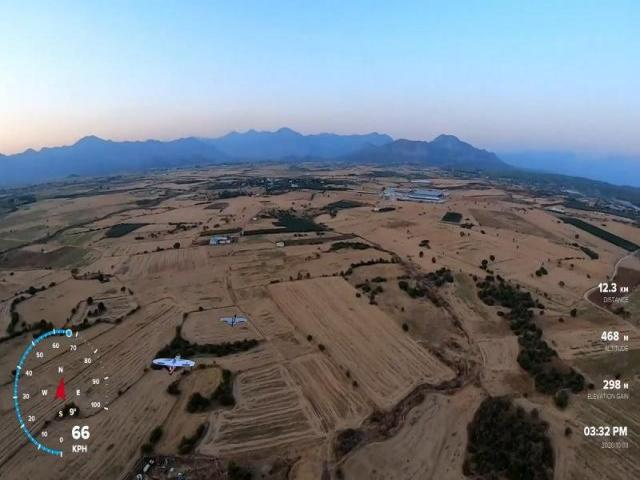hedef: (150, 350, 200, 378)
